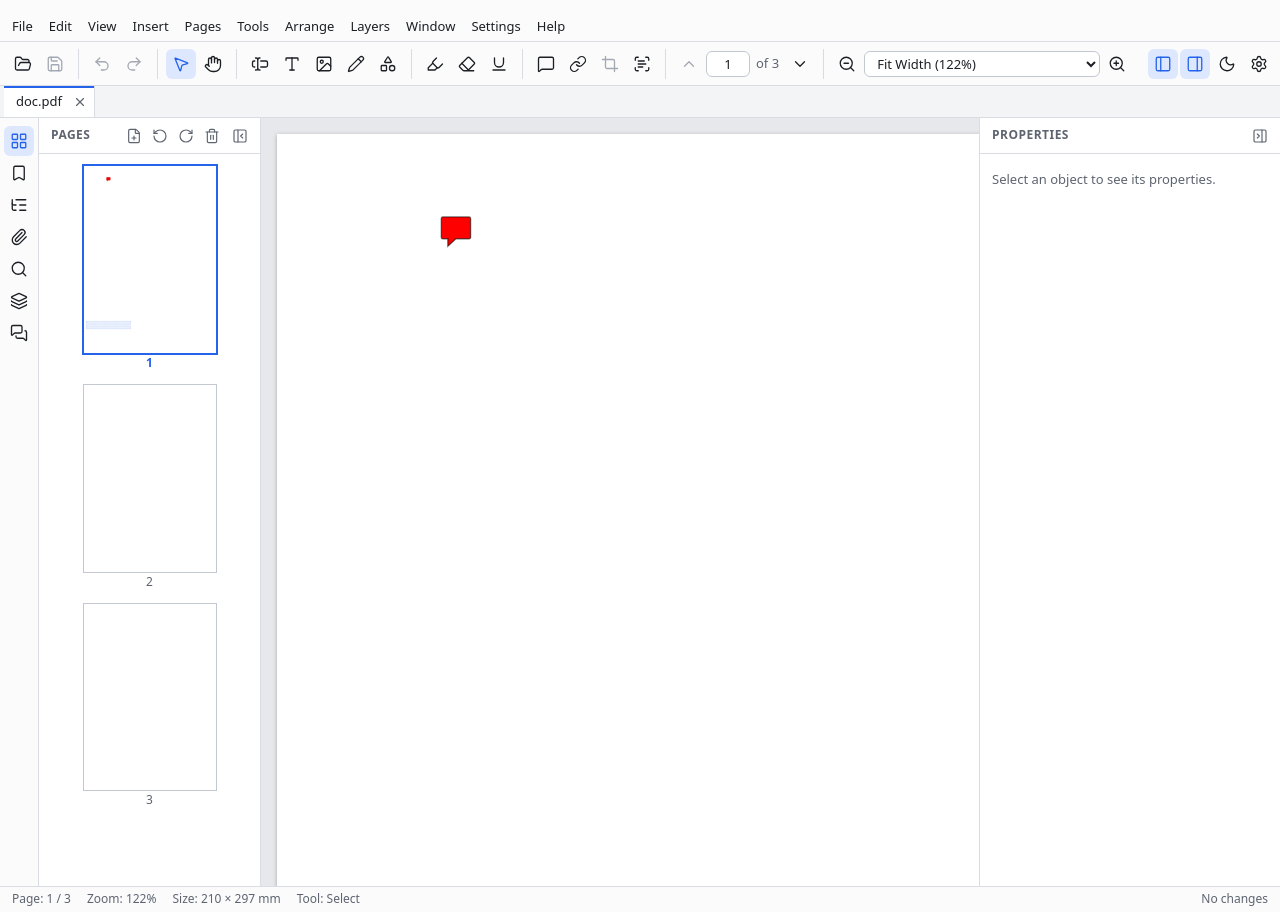
Test: comments › reads the comments of a PDF as editable notes, with replies, without marking the document modified
Check: the tab "doc.pdf" is shown, box [4, 86, 70, 117]
Click the tab named "Comments". click: (19, 333)
box: [4, 318, 34, 348]
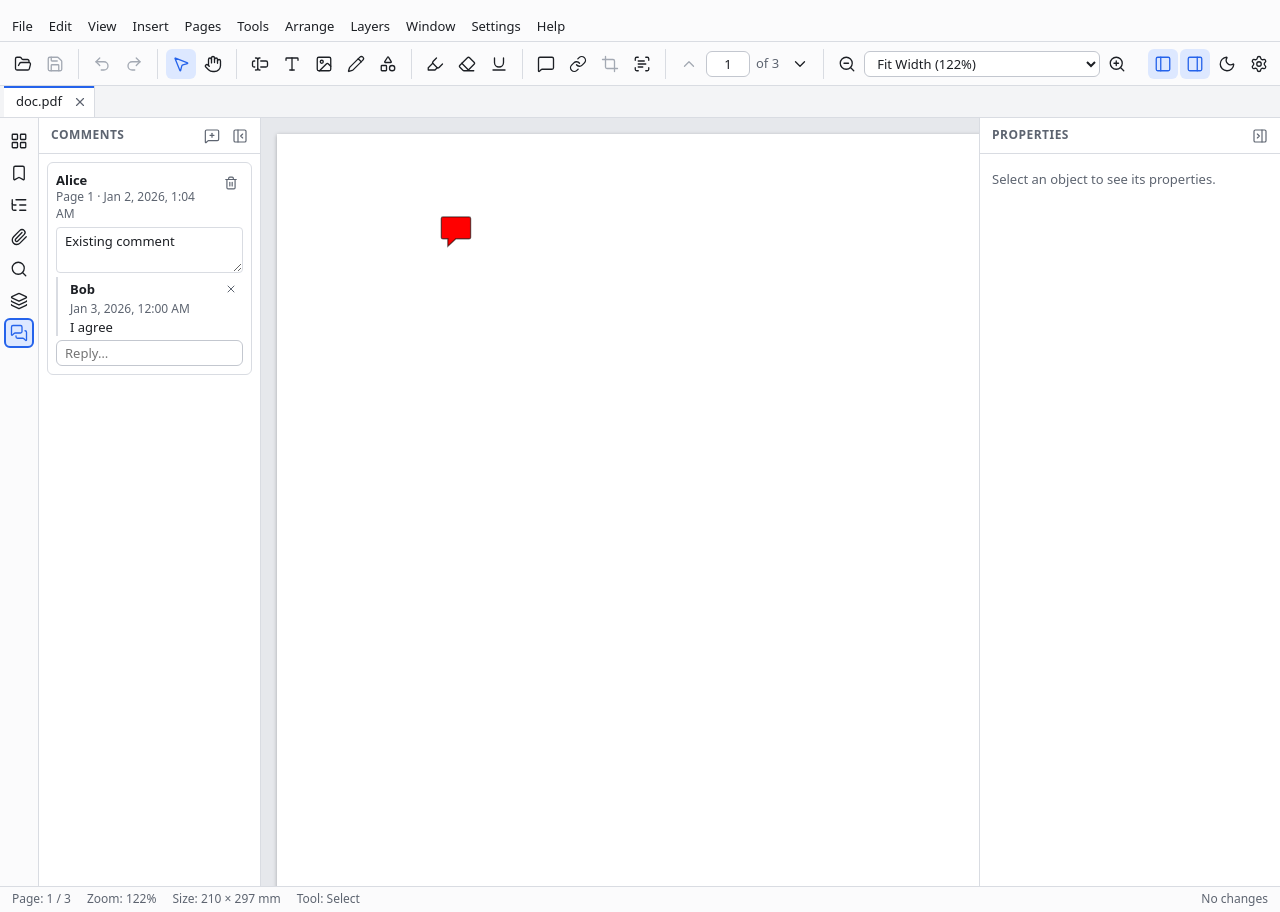
Check: the text "Alice" is shown, box [56, 171, 87, 189]
Check: the text box named "Comment text" holds "Existing comment", box [56, 227, 243, 273]
Check: the text "I agree" is shown, box [70, 318, 113, 336]
